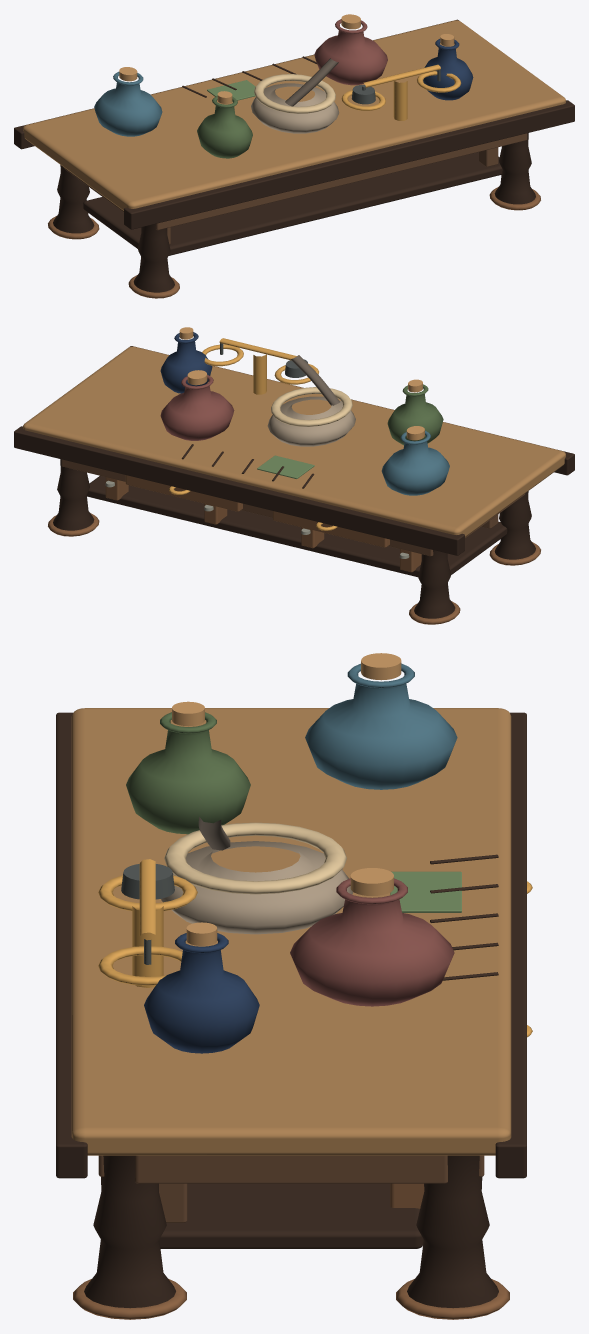
The model's file is extra_alchemy_table.glb.
The picture shows the model from 3 angles, top to bottom: view 1: azimuth 30°, elevation 25°; view 2: azimuth 150°, elevation 25°; view 3: azimuth 270°, elevation 25°; orthographic projection. The views are drawn at different scales.
Parts seen in each view (by area): view 1: wood, stone, object 9, object 5, metal, object 7, object 11, cloth; view 2: wood, stone, object 9, object 5, metal, object 7, cloth, object 11; view 3: wood, stone, object 9, object 5, object 7, object 11, metal, cloth.
Boxes of the visible parts, box(x1,y1,x2,y2) form: wood: box(14, 19, 574, 298); stone: box(251, 58, 339, 133); object 9: box(314, 30, 387, 85); object 5: box(94, 82, 162, 136); metal: box(341, 64, 461, 120); object 7: box(197, 105, 252, 158); object 11: box(423, 48, 473, 100); cloth: box(119, 14, 454, 103); wood: box(14, 346, 574, 624); stone: box(267, 355, 355, 446); object 9: box(160, 386, 234, 440); object 5: box(381, 441, 449, 495); metal: box(105, 338, 409, 558); object 7: box(387, 394, 443, 445); cloth: box(179, 327, 424, 478); object 11: box(160, 341, 212, 393); wood: box(56, 708, 526, 1319); stone: box(161, 817, 353, 934); object 9: box(290, 899, 454, 1006); object 5: box(305, 683, 457, 789); object 7: box(126, 730, 250, 834); object 11: box(144, 950, 259, 1053); metal: box(98, 859, 532, 1037); cloth: box(172, 653, 461, 945).
Bounding box in the file's own units: 2.8 × 1 × 1.3.
